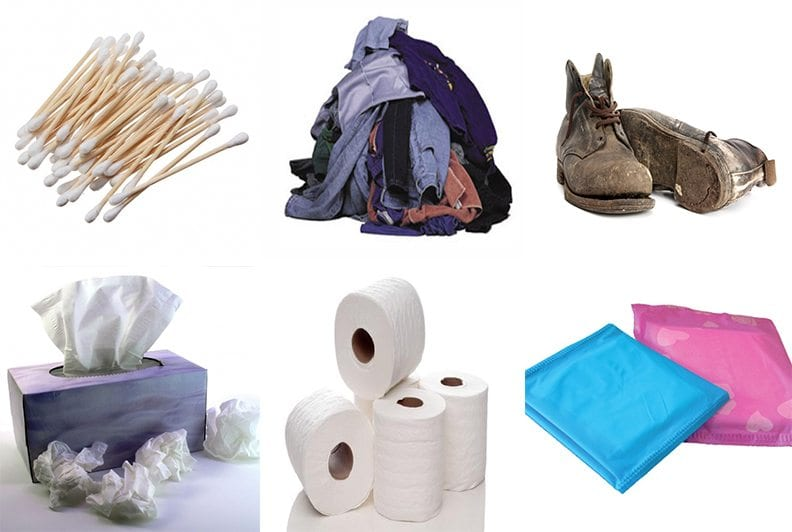Tissue: (31, 275, 183, 376), (333, 276, 426, 397), (83, 457, 161, 524), (197, 390, 261, 463)
